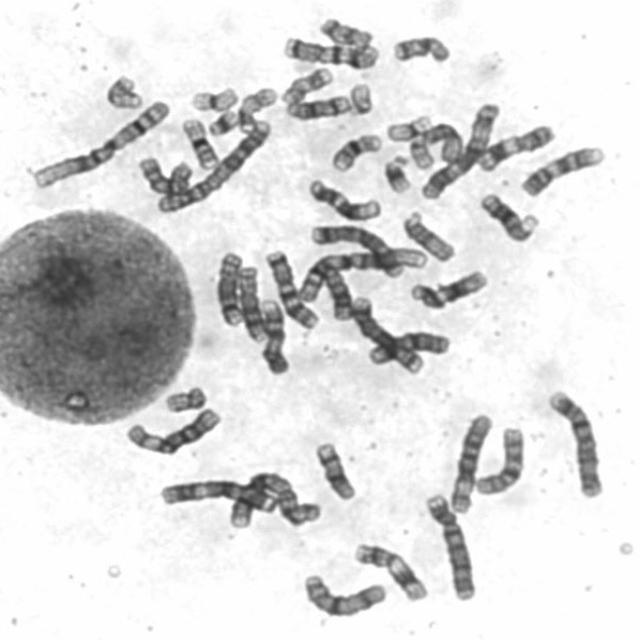A1: (27, 94, 171, 191), (288, 242, 430, 301)
A2: (151, 114, 274, 216), (223, 466, 323, 530)
A3: (415, 98, 503, 201), (153, 475, 278, 515)
B4: (542, 384, 606, 500), (419, 488, 478, 602)
B5: (344, 292, 428, 383), (304, 219, 407, 279)
C10: (470, 420, 528, 496), (133, 151, 195, 197)
C11: (348, 537, 430, 603), (471, 119, 557, 173)
C12: (302, 173, 383, 223), (405, 265, 489, 311)
C6: (120, 402, 222, 458), (444, 407, 496, 515)
C7: (261, 245, 321, 330), (277, 31, 381, 71)
C8: (230, 260, 269, 344), (209, 246, 245, 328)
C9: (515, 140, 607, 198), (253, 294, 291, 376)
D13: (474, 187, 541, 244), (317, 262, 354, 322)
D14: (310, 437, 358, 502), (280, 89, 354, 122)
D15: (397, 206, 457, 264), (416, 118, 464, 165)
E16: (326, 129, 384, 173), (177, 112, 220, 170)
E17: (276, 61, 335, 106), (99, 69, 144, 111)
E18: (386, 30, 452, 65), (314, 12, 376, 48)
F19: (380, 109, 433, 143), (184, 81, 240, 113)
F20: (236, 80, 284, 124), (158, 381, 209, 414)
G21: (379, 149, 414, 195), (202, 104, 240, 137)
G22: (342, 76, 376, 118), (404, 134, 436, 170)
X: (296, 569, 388, 619), (362, 326, 452, 367)
